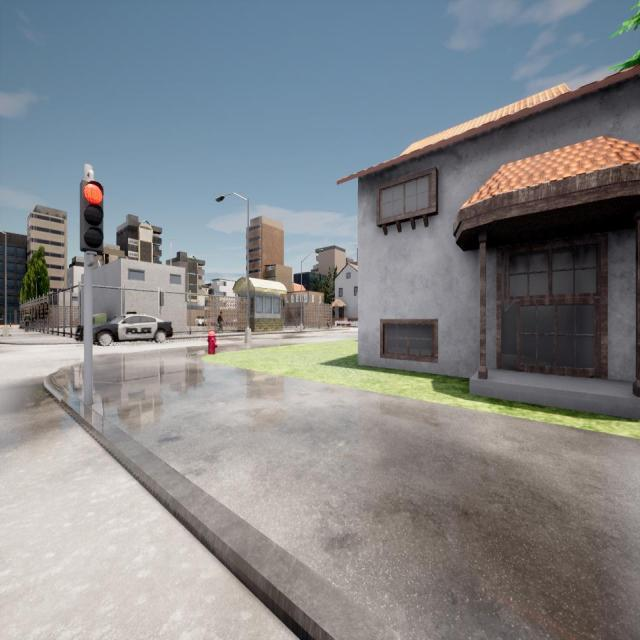Pedestrian: (24, 310, 30, 332), (218, 311, 223, 332), (327, 319, 330, 327)
Vehicle: (92, 314, 174, 346), (195, 316, 208, 326)
traffic_light: (80, 182, 103, 250), (160, 292, 164, 306)
